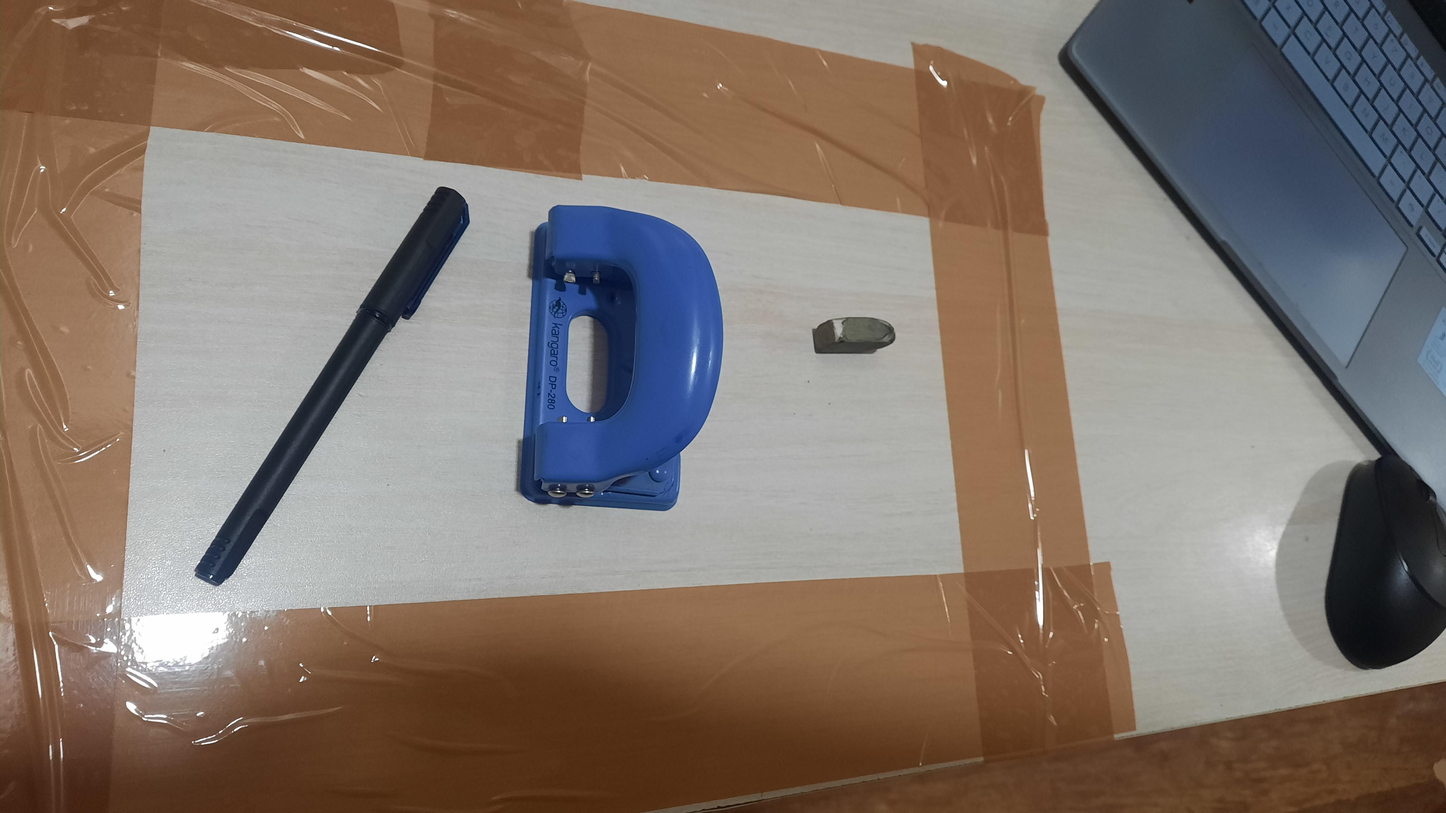Eraser: (812, 315, 896, 355)
Pen: (193, 186, 470, 586)
Punch: (518, 203, 725, 512)
